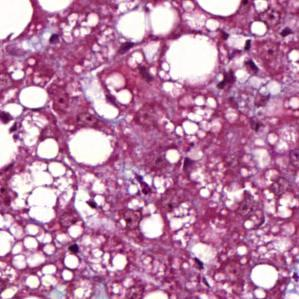steatosis: (117, 13, 155, 44)
